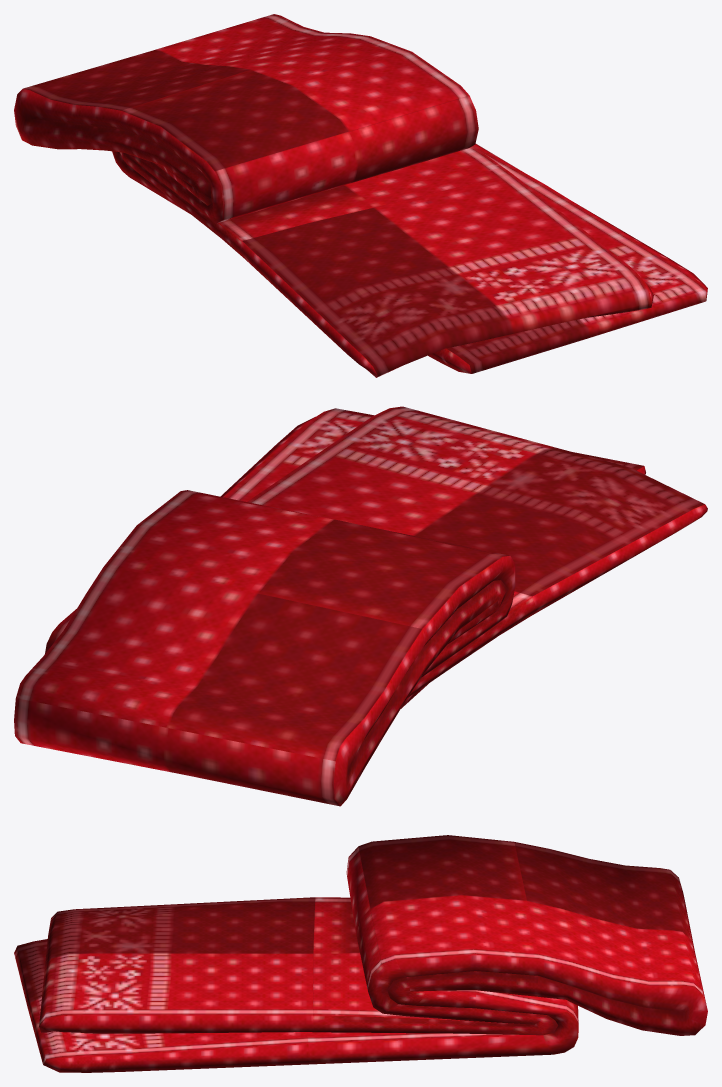
File: Conclusion.dae
3 renders of one model, top to bottom at view 1: azimuth 30°, elevation 25°; view 2: azimuth 150°, elevation 25°; view 3: azimuth 270°, elevation 25°, orthographic. The views are drawn at different scales.
Parts seen in each view (by area): view 1: _0_0_node; view 2: _0_0_node; view 3: _0_0_node.
Boxes of the visible parts, <box> form: _0_0_node: <box>14,14,707,377</box>; _0_0_node: <box>14,406,707,806</box>; _0_0_node: <box>14,835,707,1072</box>.
Bounding box in the file's own units: 1.07 × 0.2836 × 1.94.
Materials: 1 (1 with a texture image).
